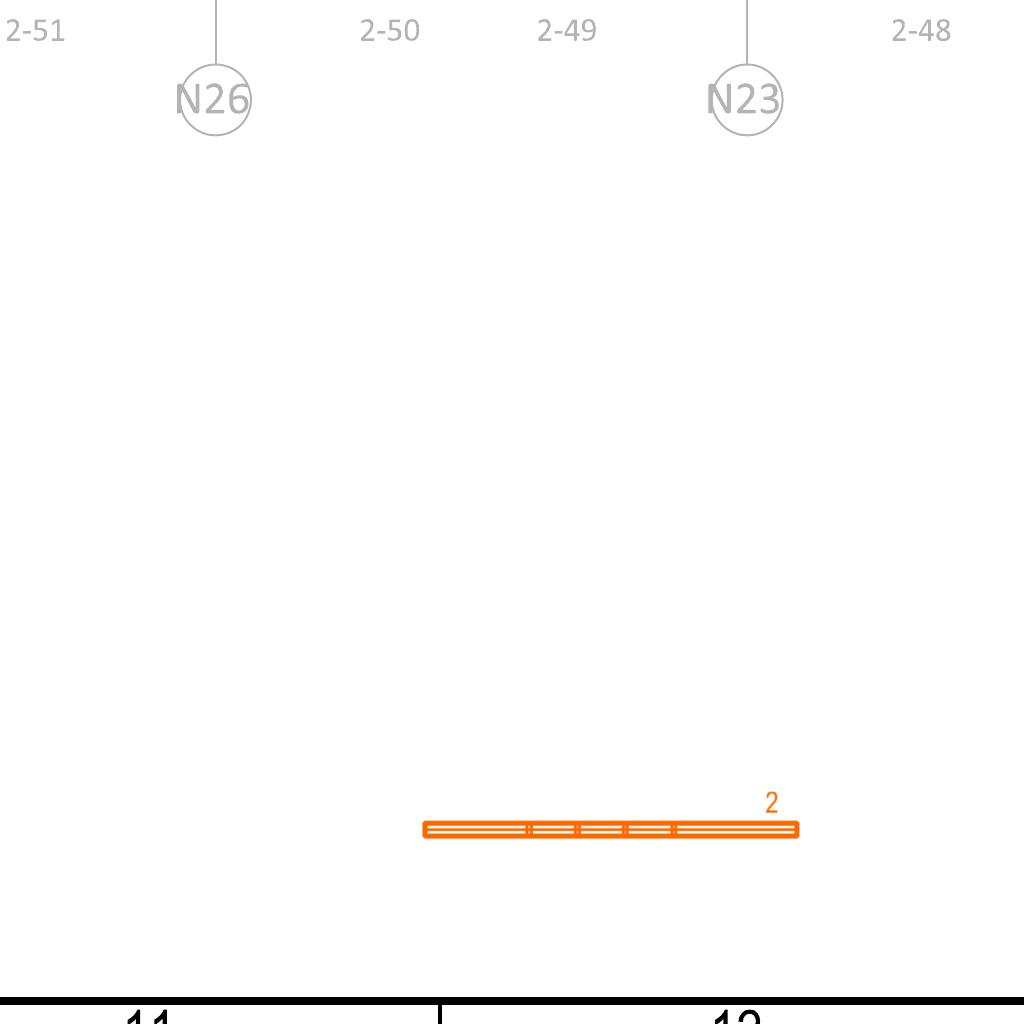Ambulanz_Pendelleuchte_LED: (417, 789, 804, 845)
